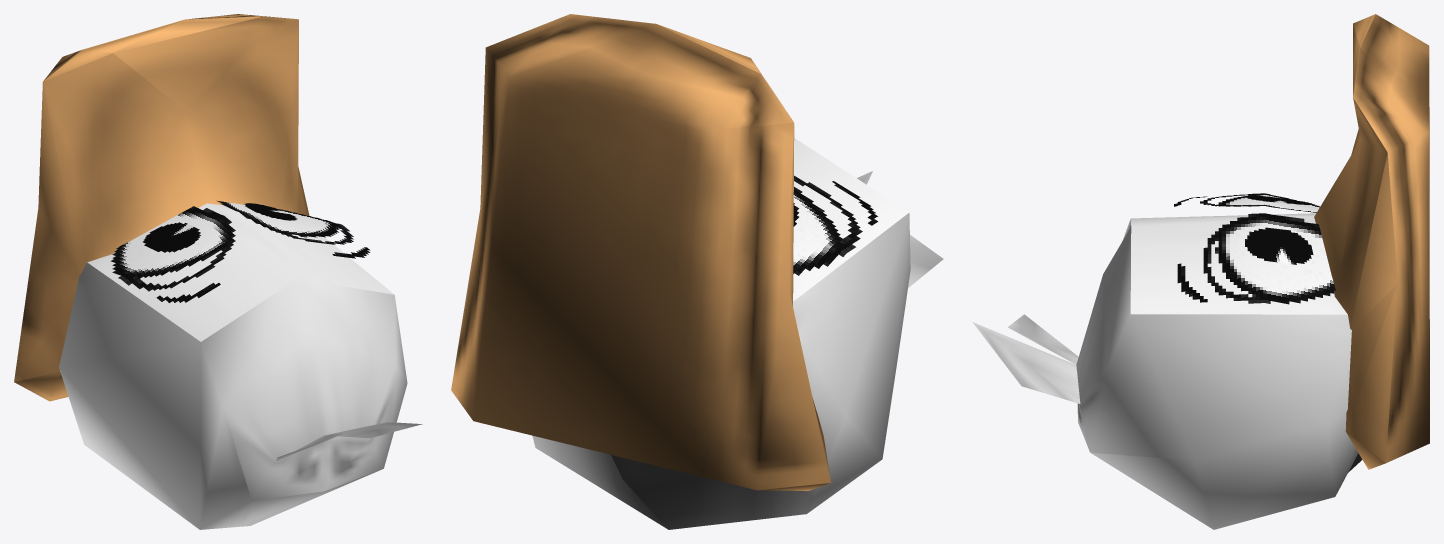
The model's file is fsl_250.glb.
The picture shows the model from 3 angles, left to right: view 1: azimuth 30°, elevation 25°; view 2: azimuth 150°, elevation 25°; view 3: azimuth 270°, elevation 25°; orthographic projection. The views are drawn at different scales.
Visible parts, largest first — view 1: head-short, muzzle-long-neutral, head-front-short, eyes-short, joint_pupilL_short; view 2: muzzle-long-neutral, head-short, head-front-short, eyes-short; view 3: head-short, muzzle-long-neutral, head-front-short, eyes-short, joint_pupilR_short.
Boxes of the visible parts, x1,y1,x2,y2 form: head-short: (59,262,422,529); muzzle-long-neutral: (14,14,309,401); head-front-short: (87,203,393,341); eyes-short: (111,200,370,302); joint_pupilL_short: (143,222,200,252); muzzle-long-neutral: (451,14,830,490); head-short: (532,171,943,529); head-front-short: (793,138,908,301); eyes-short: (793,175,877,275); head-short: (972,219,1362,529); muzzle-long-neutral: (1314,14,1429,469); head-front-short: (1130,213,1347,314); eyes-short: (1174,193,1335,304); joint_pupilR_short: (1245,227,1313,264).
Size of the model in its own units: 1.44 by 2 by 1.79.
Materials: 5 (5 with a texture image).
